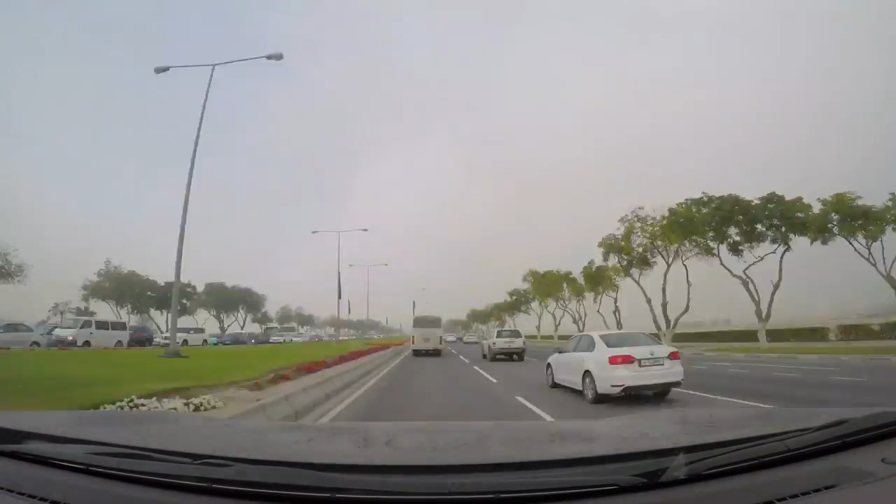bus: (409, 313, 444, 358)
car: (544, 329, 684, 405), (51, 315, 131, 355), (480, 327, 528, 363), (1, 319, 49, 353), (158, 325, 208, 350), (118, 324, 156, 348), (212, 331, 248, 349), (268, 331, 292, 346), (291, 331, 309, 345), (461, 332, 479, 344), (308, 333, 325, 343), (444, 332, 457, 343)
